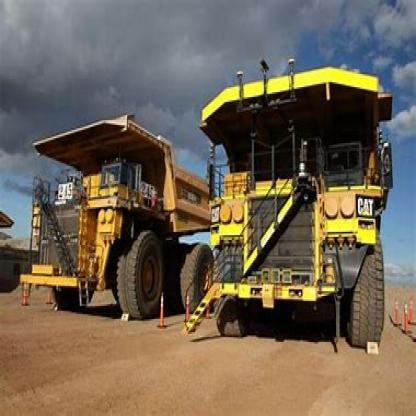dump_truck: (196, 64, 395, 339), (20, 110, 216, 321)
